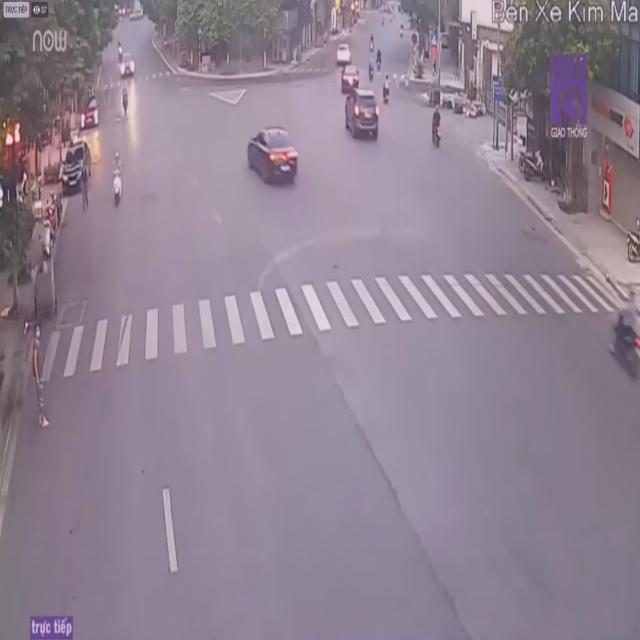car: (248, 125, 302, 184), (342, 86, 380, 145)
motorbike: (610, 288, 640, 376), (112, 150, 127, 206), (429, 106, 443, 152)
